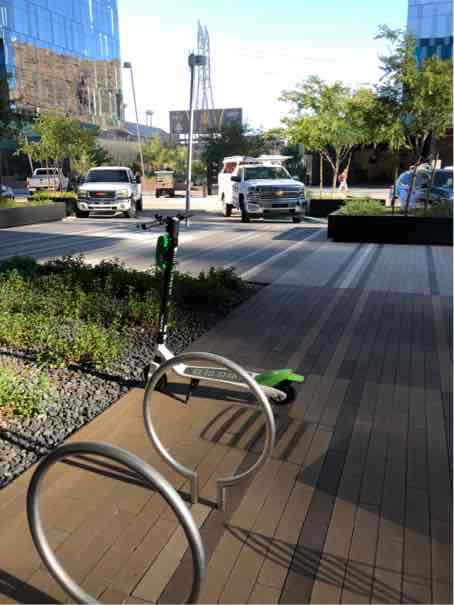scooter: (123, 222, 307, 410)
